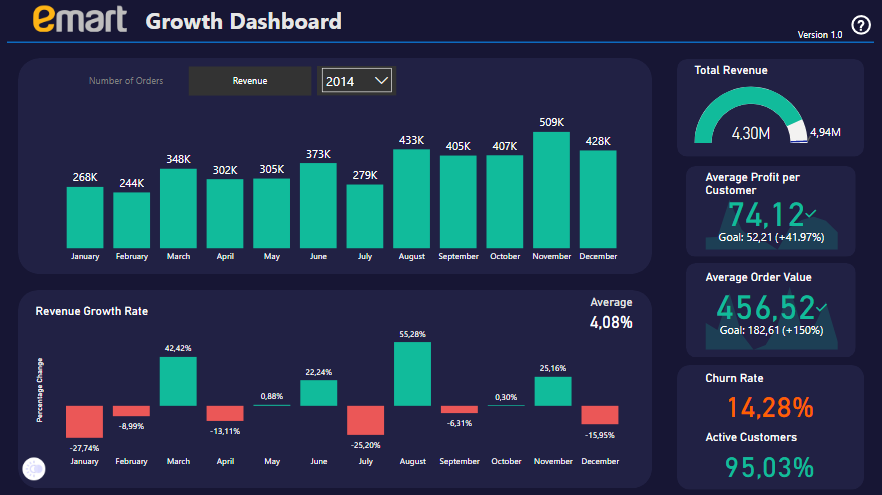

The page's visual inventory and layout, read from the dashboard file:
{"tool":"powerbi","page":{"name":"Page 1","canvas":[1280,1080],"ordinal":0},"visuals":[{"type":"areaChart","fields":{"Category":["orders_abt.order_date.Variation.Date Hierarchy.Year","orders_abt.order_date.Variation.Date Hierarchy.Month"],"Y":["Avg(orders_abt.profit)"]},"box":[867,919,291.3,135.4],"z":0},{"type":"card","fields":{"Values":["Avg(orders_abt.profit)"]},"box":[868.6,938.6,291.4,125.7],"z":2000},{"type":"areaChart","fields":{"Category":["orders_abt.order_date.Variation.Date Hierarchy.Year","orders_abt.order_date.Variation.Date Hierarchy.Month"],"Y":["Avg(orders_abt.profit)"]},"box":[868.6,918.6,290,135.7],"z":3000},{"type":"areaChart","fields":{"Category":["orders_abt.order_date.Variation.Date Hierarchy.Year","orders_abt.order_date.Variation.Date Hierarchy.Month"],"Y":["Avg(orders_abt.sales)"]},"box":[868.6,781.4,290,117.1],"z":4000},{"type":"card","fields":{"Values":["Avg(orders_abt.sales)"]},"box":[890.8,791.4,244.9,107.7],"z":5000},{"type":"areaChart","title":"REVENUE","fields":{"Category":["orders_abt.order_date.Variation.Date Hierarchy.Year","orders_abt.order_date.Variation.Date Hierarchy.Month"],"Y":["Sum(orders_abt.sales)"]},"box":[40,490,695.7,251.4],"z":6000},{"type":"columnChart","title":"QUANTITY OF ORDERS","fields":{"Y":["CountNonNull(orders_abt.order_id)"],"Category":["orders_abt.order_date.Variation.Date Hierarchy.Year","orders_abt.order_date.Variation.Date Hierarchy.Month"]},"box":[41.4,782.9,697.1,271.4],"z":7000},{"type":"slicer","fields":{"Values":["orders_abt.order_date.Variation.Date Hierarchy.Year"]},"box":[982.9,172.9,260,82.9],"z":8000},{"type":"card","title":"R E V E N U E","fields":{"Values":["Sum(orders_abt.sales)"]},"box":[77.1,314.3,255.7,100],"z":9000},{"type":"card","title":"O R D E R S","fields":{"Values":["CountNonNull(orders_abt.order_id)"]},"box":[690,314.3,254.3,100],"z":10000},{"type":"donutChart","title":"MARKET PERFORMANCE","fields":{"Category":["orders_abt.market"],"Y":["Sum(orders_abt.sales)"]},"box":[781.4,490,461.4,251.4],"z":11000},{"type":"slicer","fields":{"Values":["orders_abt.country"]},"box":[77.1,167.1,255.7,88.6],"z":12000},{"type":"slicer","fields":{"Values":["orders_abt.state"]},"box":[385.7,168.6,255.7,87.1],"z":13000},{"type":"slicer","fields":{"Values":["orders_abt.city"]},"box":[690,168.6,254.3,87.1],"z":14000},{"type":"card","title":"P R O F I T","fields":{"Values":["Sum(orders_abt.profit)"]},"box":[385.7,314.3,254.3,100],"z":15000},{"type":"card","title":"C U S T O M E R S","fields":{"Values":["Count(orders_abt.customer_id)"]},"box":[982.9,314.3,260,100],"z":16000},{"type":"textbox","box":[0,0,1280,91.4],"z":17000},{"type":"image","box":[24.3,5.7,104.3,78.6],"z":18000},{"type":"actionButton","box":[1202.9,22.9,45.7,44.3],"z":19000},{"type":"areaChart","fields":{"Category":["orders_abt.order_date.Variation.Date Hierarchy.Year","orders_abt.order_date.Variation.Date Hierarchy.Month"],"Y":["Avg(orders_abt.sales)"]},"box":[865.6,780.9,291.3,116.2],"z":20000}]}

Visuals, with their boxes on the page's 1280x1080 design canvas (x1, y1, x2, y2). These are canvas units, not pixel positions in the 882x495 screenshot, which may show the page scaled, cropped or inside an application window:
areaChart - orders_abt.order_date.Variation.Date Hierarchy.Year x orders_abt.order_date.Variation.Date Hierarchy.Month: bbox=(867, 919, 1158, 1054)
card - Avg(orders_abt.profit): bbox=(869, 939, 1160, 1064)
areaChart - orders_abt.order_date.Variation.Date Hierarchy.Year x orders_abt.order_date.Variation.Date Hierarchy.Month: bbox=(869, 919, 1159, 1054)
areaChart - orders_abt.order_date.Variation.Date Hierarchy.Year x orders_abt.order_date.Variation.Date Hierarchy.Month: bbox=(869, 781, 1159, 898)
card - Avg(orders_abt.sales): bbox=(891, 791, 1136, 899)
"REVENUE" areaChart: bbox=(40, 490, 736, 741)
"QUANTITY OF ORDERS" columnChart: bbox=(41, 783, 738, 1054)
slicer - orders_abt.order_date.Variation.Date Hierarchy.Year: bbox=(983, 173, 1243, 256)
"R E V E N U E" card: bbox=(77, 314, 333, 414)
"O R D E R S" card: bbox=(690, 314, 944, 414)
"MARKET PERFORMANCE" donutChart: bbox=(781, 490, 1243, 741)
slicer - orders_abt.country: bbox=(77, 167, 333, 256)
slicer - orders_abt.state: bbox=(386, 169, 641, 256)
slicer - orders_abt.city: bbox=(690, 169, 944, 256)
"P R O F I T" card: bbox=(386, 314, 640, 414)
"C U S T O M E R S" card: bbox=(983, 314, 1243, 414)
textbox: bbox=(0, 0, 1280, 91)
image: bbox=(24, 6, 129, 84)
actionButton: bbox=(1203, 23, 1249, 67)
areaChart - orders_abt.order_date.Variation.Date Hierarchy.Year x orders_abt.order_date.Variation.Date Hierarchy.Month: bbox=(866, 781, 1157, 897)
